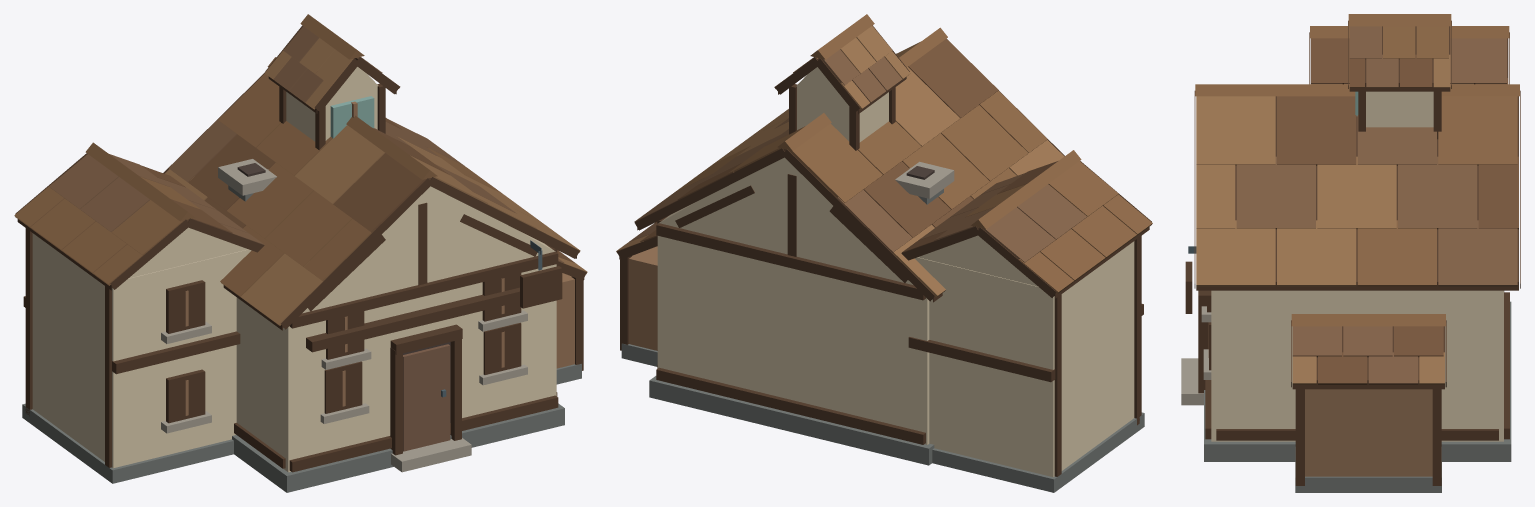
The model's file is ENV_Civic_tavern_LOD1.glb.
3 views of the same model, side by side, from view 1: azimuth 30°, elevation 25°; view 2: azimuth 150°, elevation 25°; view 3: azimuth 270°, elevation 25° (orthographic). The views are drawn at different scales.
Parts seen in each view (by area): view 1: ENV_Civic_tavern_LOD1_shell_plasterIvory, ENV_Civic_tavern_LOD1_roof_roofTiles, ENV_Civic_tavern_LOD1_stage7_upper_wing_plasterIvory, ENV_Civic_tavern_LOD1_shell_woodDark, ENV_Civic_tavern_LOD1_stage7_upper_wing_roofTiles, ENV_Civic_tavern_LOD1_stage7_upper_wing_woodDark, ENV_Civic_tavern_LOD1_tavern_identity_woodDark, ENV_Civic_tavern_LOD1_foundation_stoneDark, ENV_Civic_tavern_LOD1_shell_wood, ENV_Civic_tavern_LOD1_stage8_roof_lantern_roofTiles, ENV_Civic_tavern_LOD1_roof_woodDark, ENV_Civic_tavern_LOD1_stage7_upper_wing_stoneDark (+8 smaller); view 2: ENV_Civic_tavern_LOD1_shell_plasterIvory, ENV_Civic_tavern_LOD1_stage7_upper_wing_plasterIvory, ENV_Civic_tavern_LOD1_roof_roofTiles, ENV_Civic_tavern_LOD1_stage7_upper_wing_roofTiles, ENV_Civic_tavern_LOD1_shell_woodDark, ENV_Civic_tavern_LOD1_stage7_upper_wing_woodDark, ENV_Civic_tavern_LOD1_foundation_stoneDark, ENV_Civic_tavern_LOD1_stage8_roof_lantern_roofTiles, ENV_Civic_tavern_LOD1_roof_woodDark, ENV_Civic_tavern_LOD1_stage7_upper_wing_stoneDark, ENV_Civic_tavern_LOD1_stage8_roof_lantern_plasterIvory, ENV_Civic_tavern_LOD1_stage5_shed_woodLight (+4 smaller); view 3: ENV_Civic_tavern_LOD1_roof_roofTiles, ENV_Civic_tavern_LOD1_shell_plasterIvory, ENV_Civic_tavern_LOD1_stage5_shed_woodLight, ENV_Civic_tavern_LOD1_stage5_shed_roofTiles, ENV_Civic_tavern_LOD1_stage8_roof_lantern_roofTiles, ENV_Civic_tavern_LOD1_stage7_upper_wing_roofTiles, ENV_Civic_tavern_LOD1_foundation_stoneDark, ENV_Civic_tavern_LOD1_shell_woodDark, ENV_Civic_tavern_LOD1_roof_woodDark, ENV_Civic_tavern_LOD1_stage5_shed_woodDark, ENV_Civic_tavern_LOD1_stage8_roof_lantern_plasterIvory, ENV_Civic_tavern_LOD1_stage5_shed_stoneDark (+3 smaller).
Boxes of the visible parts, left/top/right/bottom form: ENV_Civic_tavern_LOD1_shell_plasterIvory: left=236, top=186, right=556, bottom=472; ENV_Civic_tavern_LOD1_roof_roofTiles: left=165, top=57, right=580, bottom=325; ENV_Civic_tavern_LOD1_stage7_upper_wing_plasterIvory: left=32, top=227, right=251, bottom=468; ENV_Civic_tavern_LOD1_shell_woodDark: left=234, top=202, right=558, bottom=472; ENV_Civic_tavern_LOD1_stage7_upper_wing_roofTiles: left=14, top=142, right=263, bottom=285; ENV_Civic_tavern_LOD1_stage7_upper_wing_woodDark: left=15, top=153, right=264, bottom=467; ENV_Civic_tavern_LOD1_tavern_identity_woodDark: left=306, top=266, right=562, bottom=359; ENV_Civic_tavern_LOD1_foundation_stoneDark: left=232, top=403, right=564, bottom=492; ENV_Civic_tavern_LOD1_shell_wood: left=403, top=344, right=450, bottom=451; ENV_Civic_tavern_LOD1_stage8_roof_lantern_roofTiles: left=265, top=14, right=400, bottom=109; ENV_Civic_tavern_LOD1_roof_woodDark: left=163, top=72, right=579, bottom=330; ENV_Civic_tavern_LOD1_stage7_upper_wing_stoneDark: left=22, top=403, right=233, bottom=483; ENV_Civic_tavern_LOD1_shell_plasterIvory: left=657, top=157, right=929, bottom=444; ENV_Civic_tavern_LOD1_stage7_upper_wing_plasterIvory: left=915, top=235, right=1134, bottom=477; ENV_Civic_tavern_LOD1_roof_roofTiles: left=634, top=27, right=1064, bottom=297; ENV_Civic_tavern_LOD1_stage7_upper_wing_roofTiles: left=902, top=150, right=1152, bottom=293; ENV_Civic_tavern_LOD1_shell_woodDark: left=656, top=174, right=925, bottom=444; ENV_Civic_tavern_LOD1_stage7_upper_wing_woodDark: left=901, top=161, right=1151, bottom=476; ENV_Civic_tavern_LOD1_foundation_stoneDark: left=649, top=376, right=934, bottom=465; ENV_Civic_tavern_LOD1_stage8_roof_lantern_roofTiles: left=774, top=14, right=910, bottom=109; ENV_Civic_tavern_LOD1_roof_woodDark: left=634, top=39, right=1064, bottom=302; ENV_Civic_tavern_LOD1_stage7_upper_wing_stoneDark: left=932, top=412, right=1144, bottom=492; ENV_Civic_tavern_LOD1_stage8_roof_lantern_plasterIvory: left=796, top=67, right=888, bottom=142; ENV_Civic_tavern_LOD1_stage5_shed_woodLight: left=629, top=246, right=657, bottom=350; ENV_Civic_tavern_LOD1_roof_roofTiles: left=1195, top=84, right=1519, bottom=286; ENV_Civic_tavern_LOD1_shell_plasterIvory: left=1211, top=290, right=1503, bottom=441; ENV_Civic_tavern_LOD1_stage5_shed_woodLight: left=1305, top=389, right=1432, bottom=476; ENV_Civic_tavern_LOD1_stage5_shed_roofTiles: left=1291, top=314, right=1445, bottom=384; ENV_Civic_tavern_LOD1_stage8_roof_lantern_roofTiles: left=1348, top=14, right=1451, bottom=87; ENV_Civic_tavern_LOD1_stage7_upper_wing_roofTiles: left=1310, top=26, right=1509, bottom=84; ENV_Civic_tavern_LOD1_foundation_stoneDark: left=1204, top=301, right=1511, bottom=461; ENV_Civic_tavern_LOD1_shell_woodDark: left=1198, top=292, right=1509, bottom=440; ENV_Civic_tavern_LOD1_roof_woodDark: left=1194, top=90, right=1520, bottom=290; ENV_Civic_tavern_LOD1_stage5_shed_woodDark: left=1291, top=320, right=1446, bottom=485; ENV_Civic_tavern_LOD1_stage8_roof_lantern_plasterIvory: left=1366, top=91, right=1433, bottom=127; ENV_Civic_tavern_LOD1_stage5_shed_stoneDark: left=1295, top=447, right=1441, bottom=492.
Bounding box in the file's own units: 8.76 × 6.39 × 5.22.
